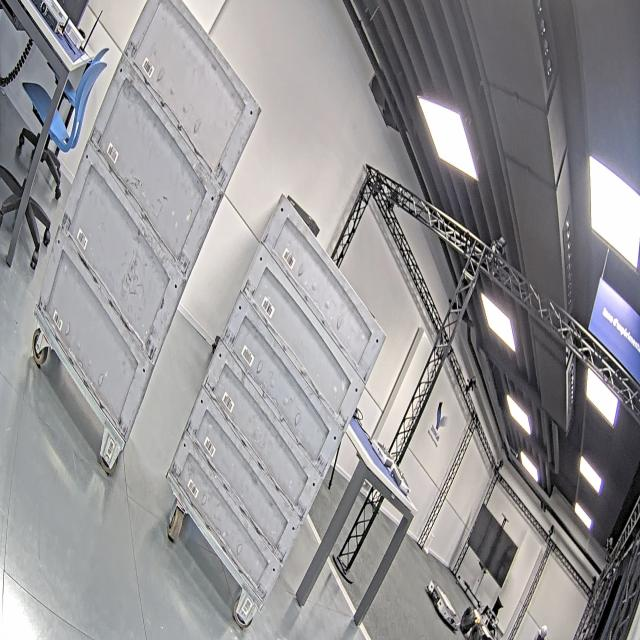Box3G: (259, 192, 388, 387), (238, 241, 365, 432), (216, 291, 344, 480), (201, 339, 321, 528), (181, 384, 300, 568), (167, 430, 282, 615)
Box4G: (88, 51, 220, 282), (59, 140, 184, 362), (122, 0, 262, 193), (33, 228, 151, 444)
